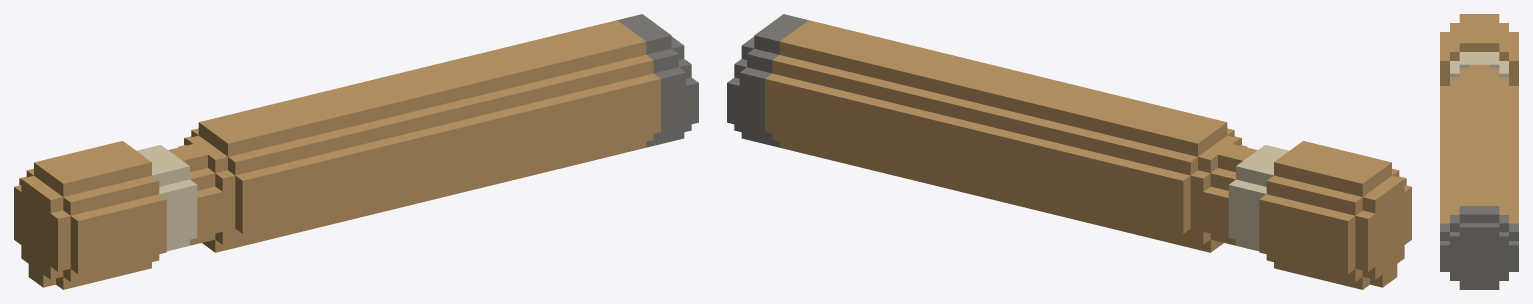
The model's file is drill_rock_primitive.glb.
The picture shows the model from 3 angles, left to right: view 1: azimuth 30°, elevation 25°; view 2: azimuth 150°, elevation 25°; view 3: azimuth 270°, elevation 25°; orthographic projection. The views are drawn at different scales.
Parts seen in each view (by area): view 1: drill_rock_primitive:compound; view 2: drill_rock_primitive:compound; view 3: drill_rock_primitive:compound.
Part boxes in pixels (box(x1,y1,x2,y2)): drill_rock_primitive:compound: box(14, 14, 698, 289); drill_rock_primitive:compound: box(727, 14, 1411, 289); drill_rock_primitive:compound: box(1440, 14, 1518, 289).
Size of the model in its own units: 0.2 by 0.032 by 0.032.
